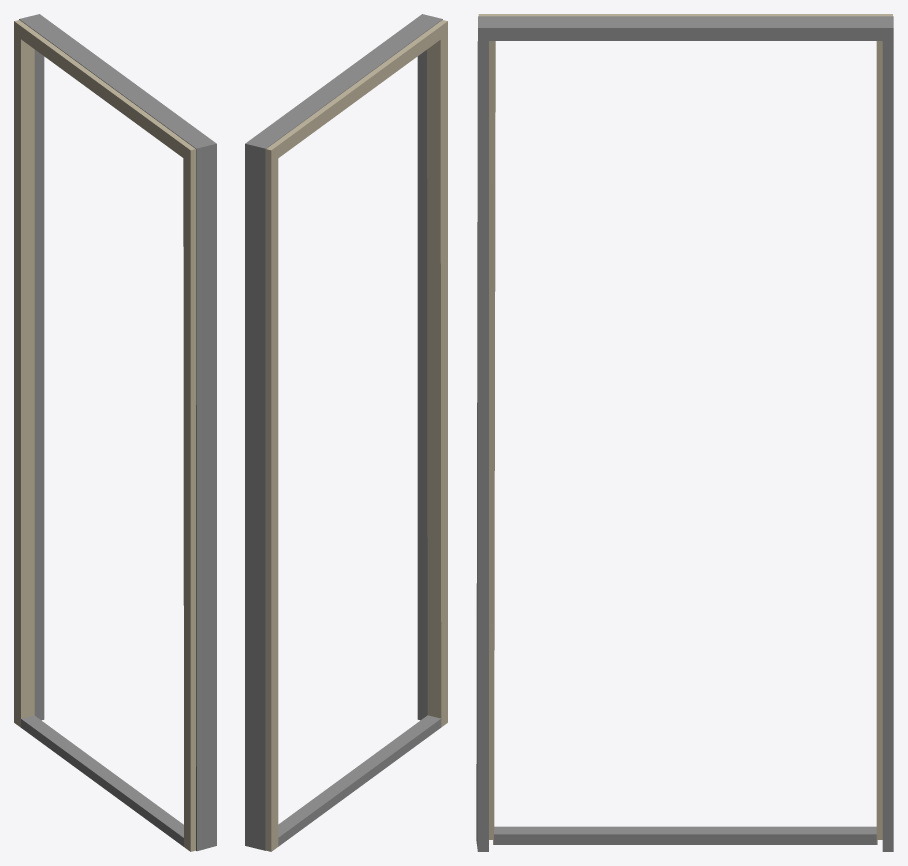
Rendered from 2058_FRAME.glb.
The picture shows the model from 3 angles, left to right: view 1: azimuth 30°, elevation 25°; view 2: azimuth 150°, elevation 25°; view 3: azimuth 270°, elevation 25°; orthographic projection. The views are drawn at different scales.
Parts seen in each view (by area): view 1: 2058_FRAME; view 2: 2058_FRAME; view 3: 2058_FRAME.
Part boxes in pixels (x1,y1,x2,y2): 2058_FRAME: (14, 14, 216, 851); 2058_FRAME: (245, 14, 447, 851); 2058_FRAME: (476, 14, 893, 851).
Size of the model in its own units: 0.0821 by 2.13 by 0.9766.
